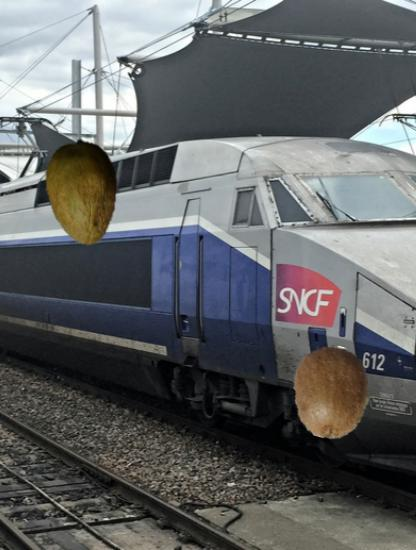Kiwi: (285, 346, 378, 439)
Papaya: (27, 138, 136, 247)
